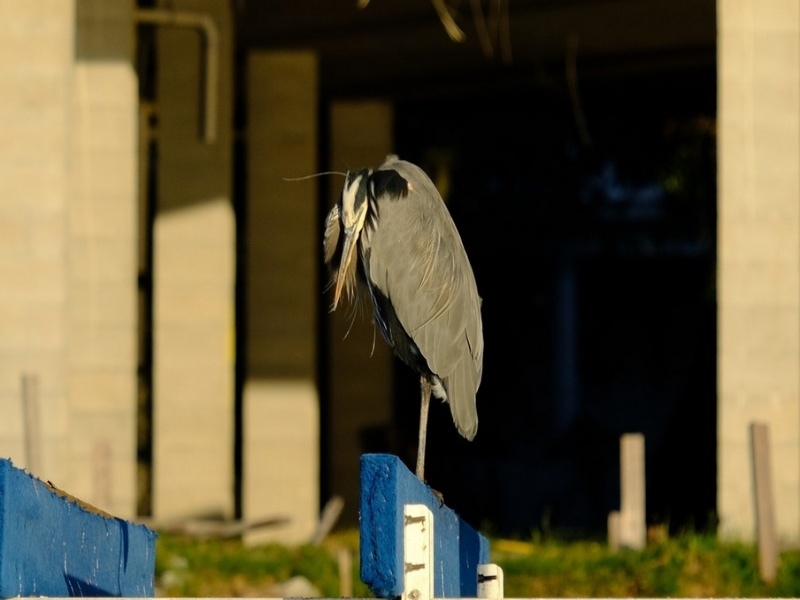heron: (289, 150, 487, 508)
